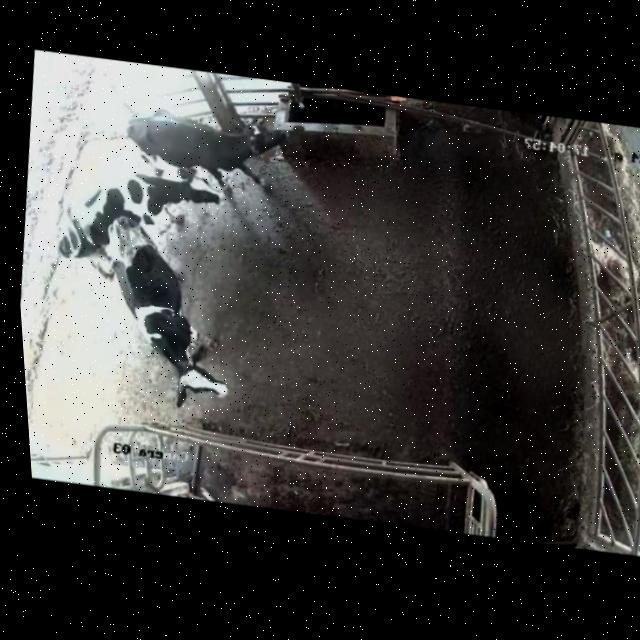stand: (73, 207, 257, 426), (40, 147, 235, 284), (110, 98, 289, 179)
